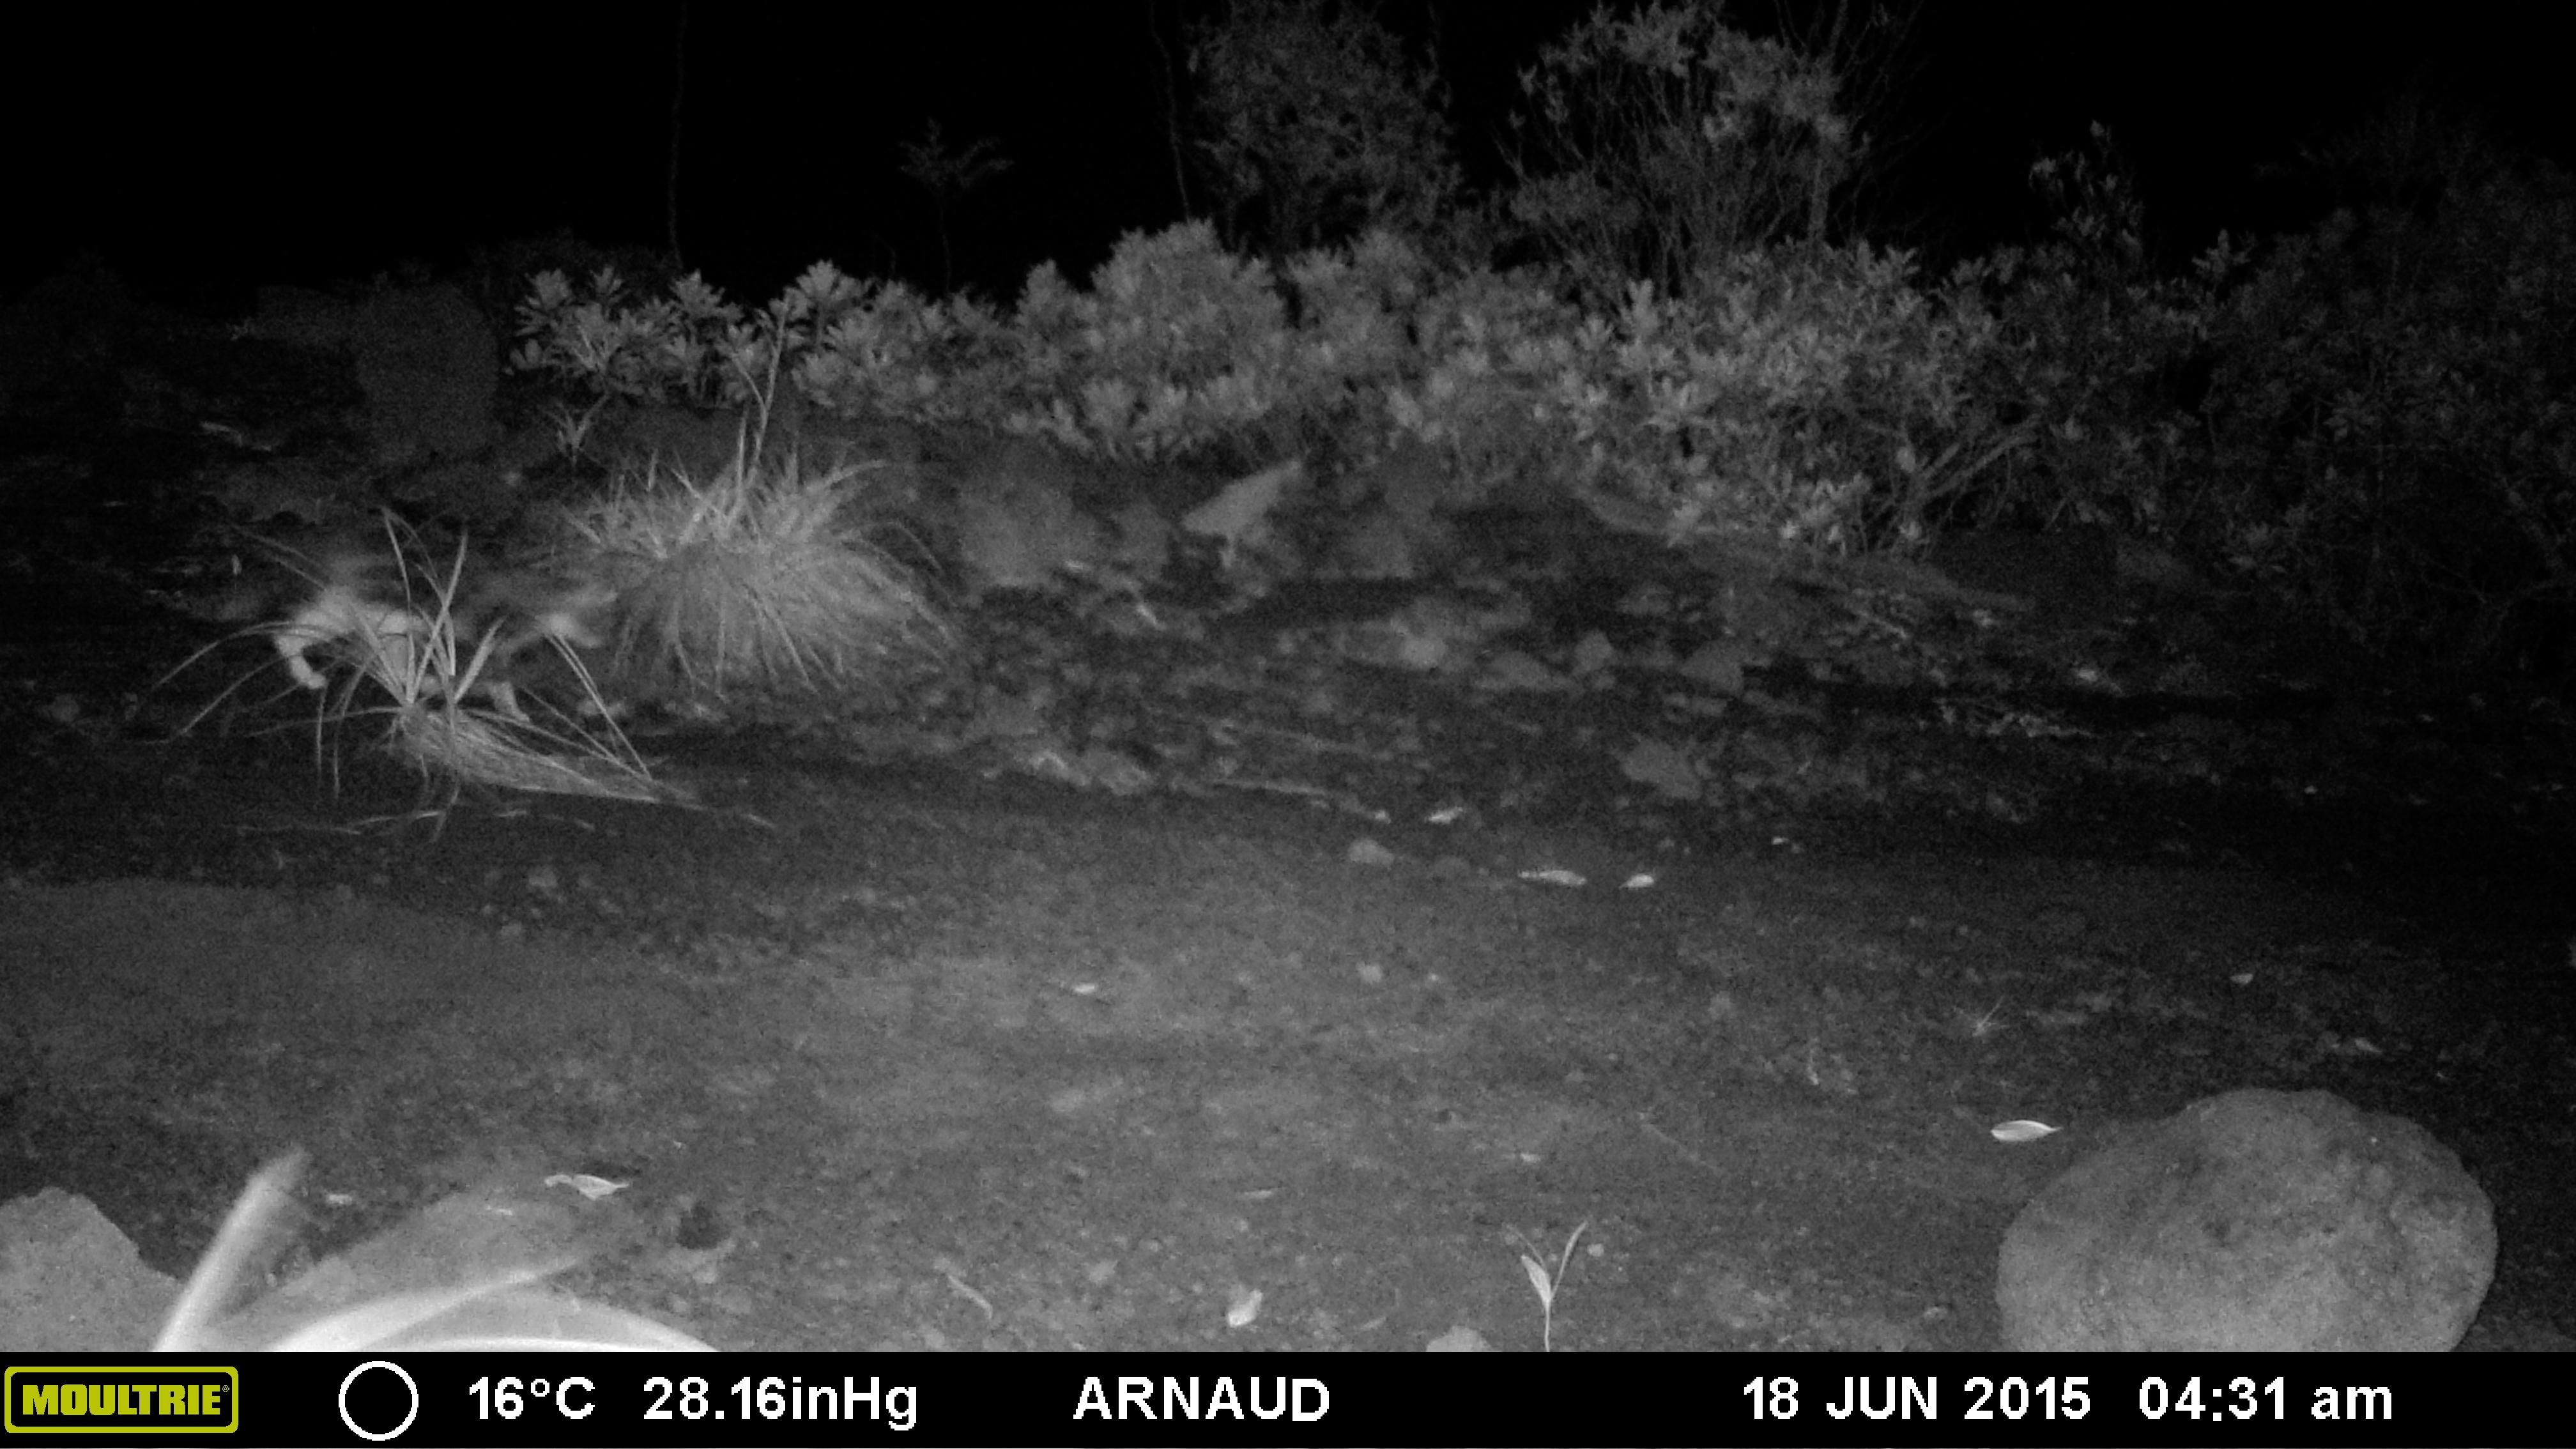cat: (221, 527, 662, 729)
